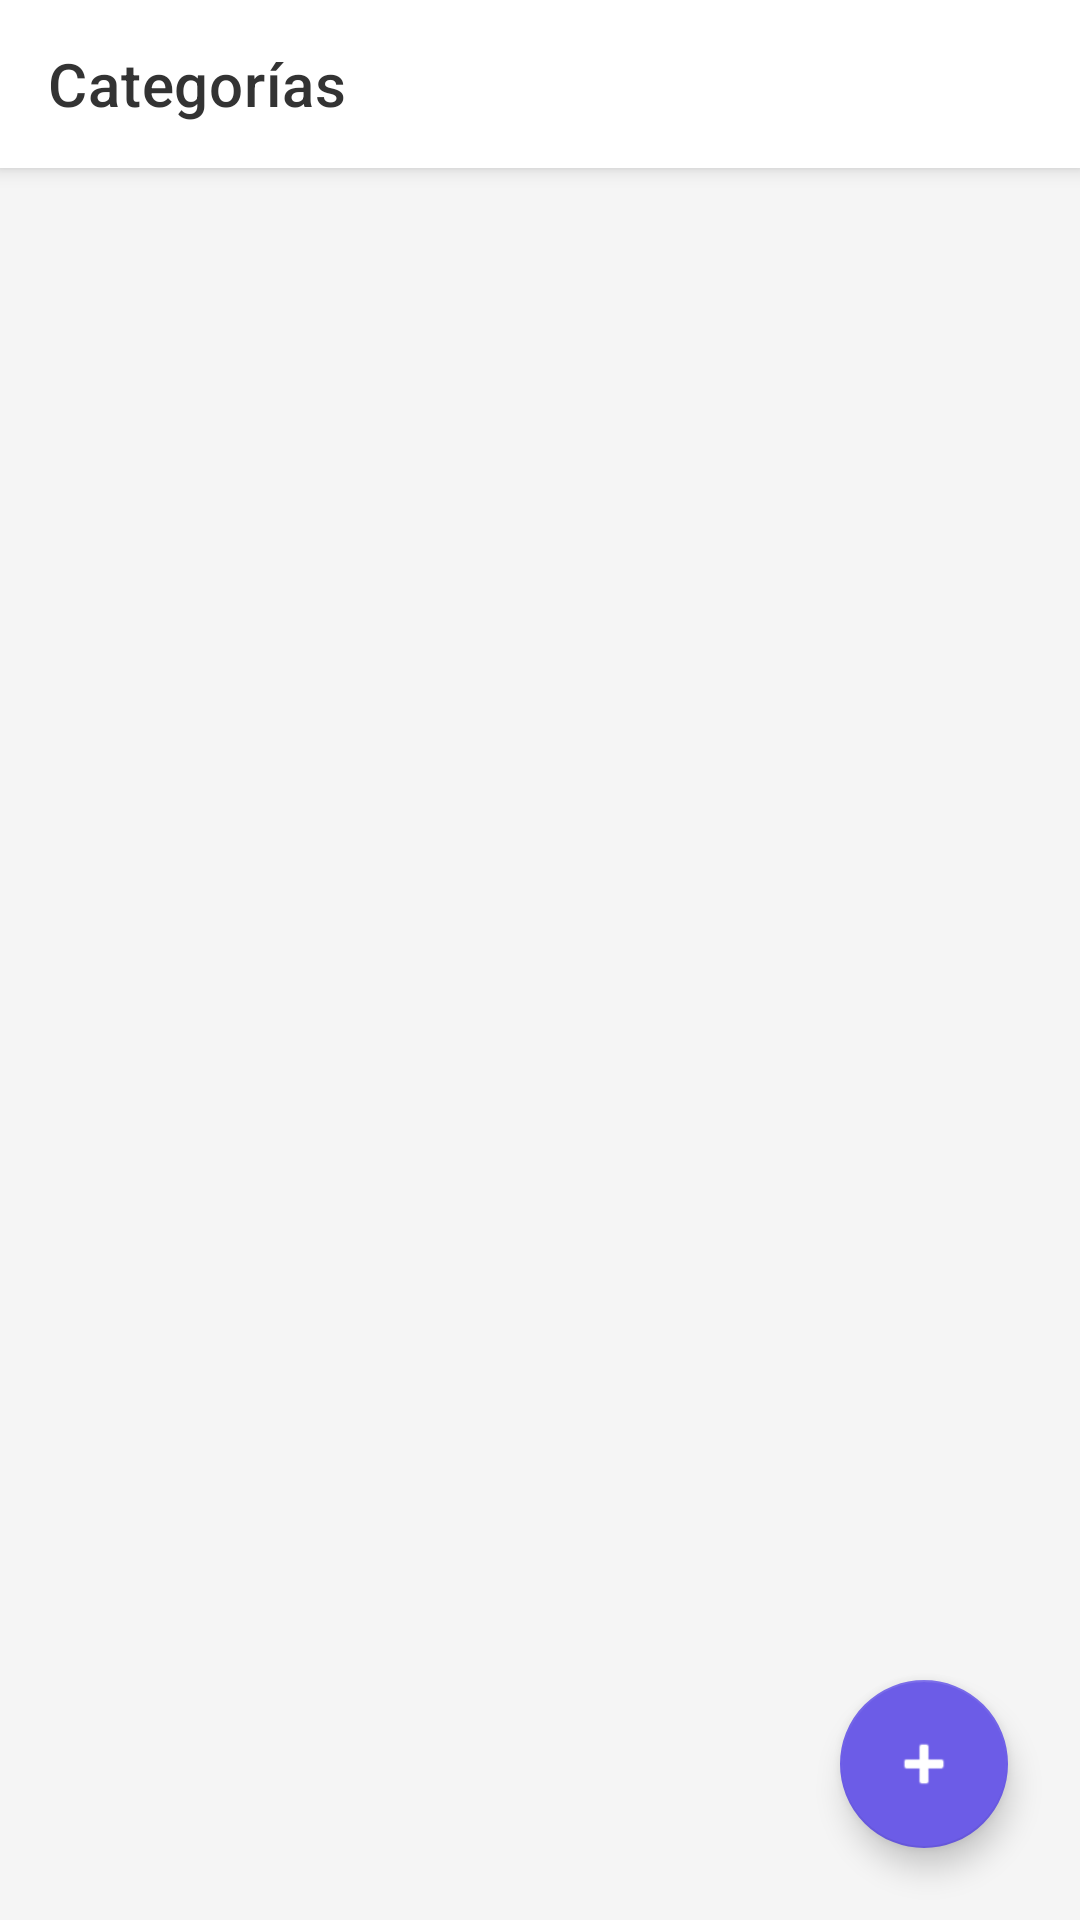

Icons on this 1080 x 1920 Android screen, each with its box as (x1,y1,x2,y2):
Agregar categoría: (840,1680,1008,1848)
